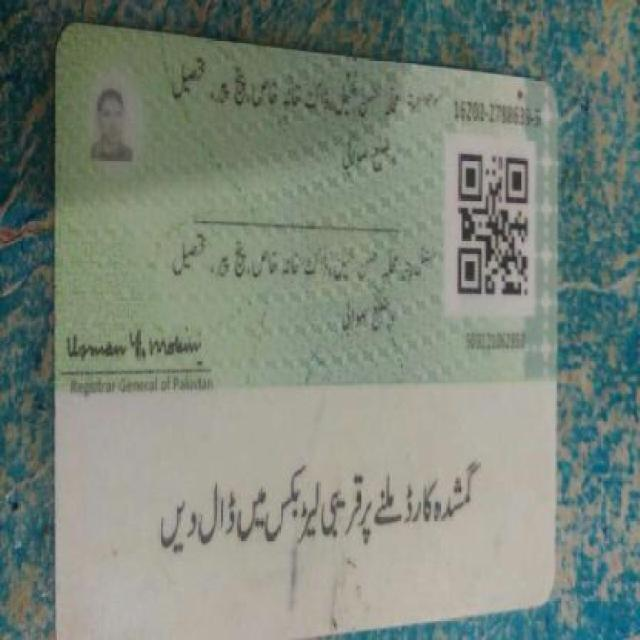Back: (41, 31, 568, 631)
